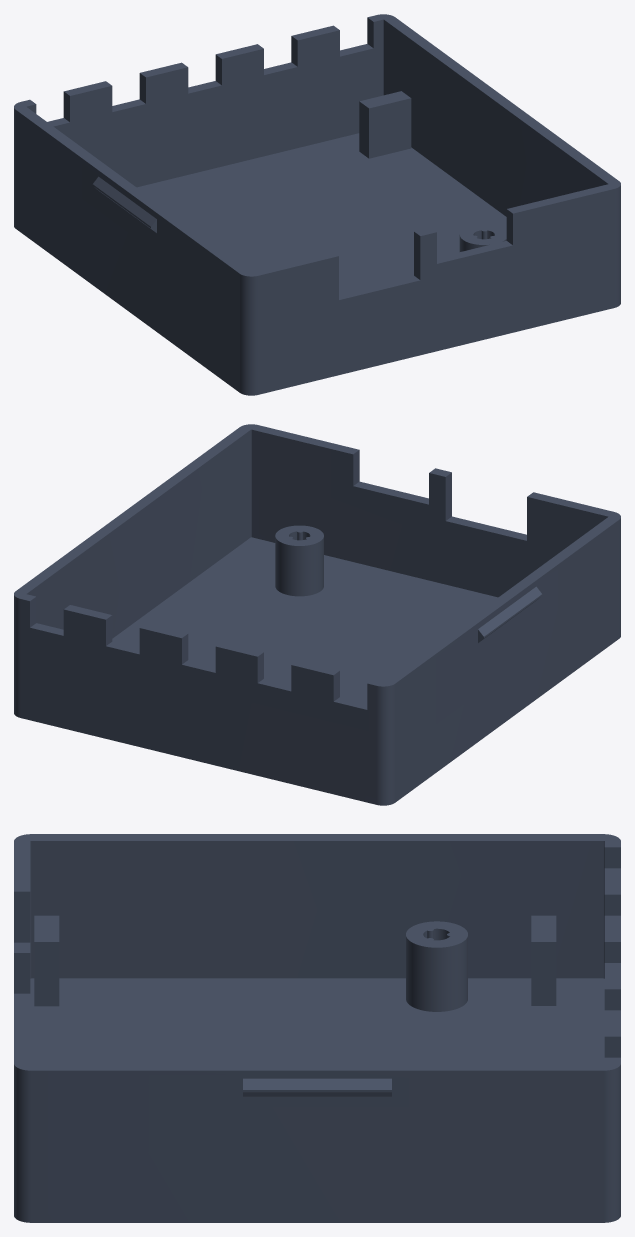
The model's file is lower-shell.glb.
The picture shows the model from 3 angles, top to bottom: view 1: azimuth 30°, elevation 25°; view 2: azimuth 150°, elevation 25°; view 3: azimuth 270°, elevation 25°; orthographic projection. The views are drawn at different scales.
Parts seen in each view (by area): view 1: lower-shell; view 2: lower-shell; view 3: lower-shell.
Part boxes in pixels (<box>): lower-shell: <box>14,14,620,395</box>; lower-shell: <box>14,424,620,805</box>; lower-shell: <box>14,834,620,1222</box>.
Bounding box in the file's own units: 0.0464 × 0.0135 × 0.0488.
